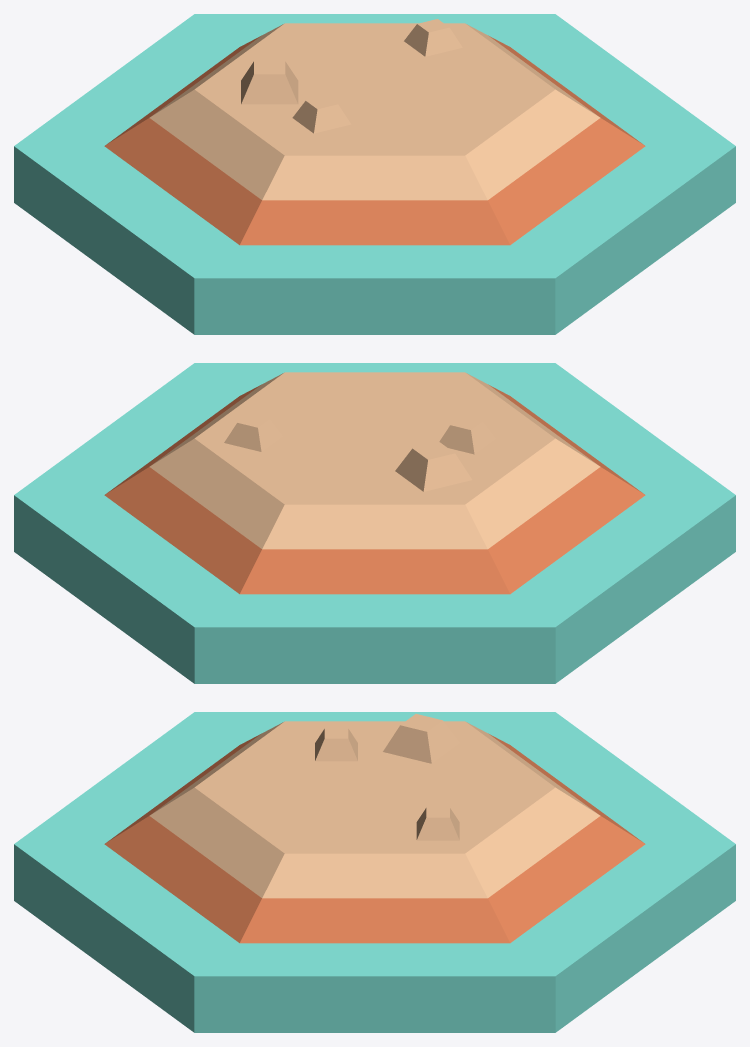
Rendered from water_island.dae.
3 renders of one model, top to bottom at view 1: azimuth 30°, elevation 25°; view 2: azimuth 150°, elevation 25°; view 3: azimuth 270°, elevation 25°, orthographic.
Visible parts, largest first — view 1: water_island, rock (×3); view 2: water_island, rock (×3); view 3: water_island, rock (×3).
Boxes of the visible parts, bbox=[...] form: water_island: bbox=[14, 14, 735, 334]; rock (×3): bbox=[241, 19, 462, 133]; water_island: bbox=[14, 363, 735, 683]; rock (×3): bbox=[224, 414, 495, 491]; water_island: bbox=[14, 712, 735, 1032]; rock (×3): bbox=[315, 714, 459, 840].
Bounding box in the file's own units: 1 × 0.2435 × 1.15.
